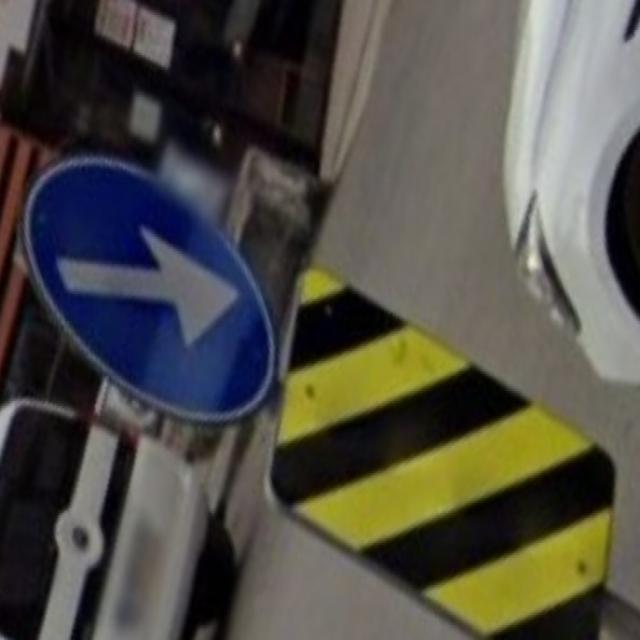Turn Right: (8, 181, 292, 428)
